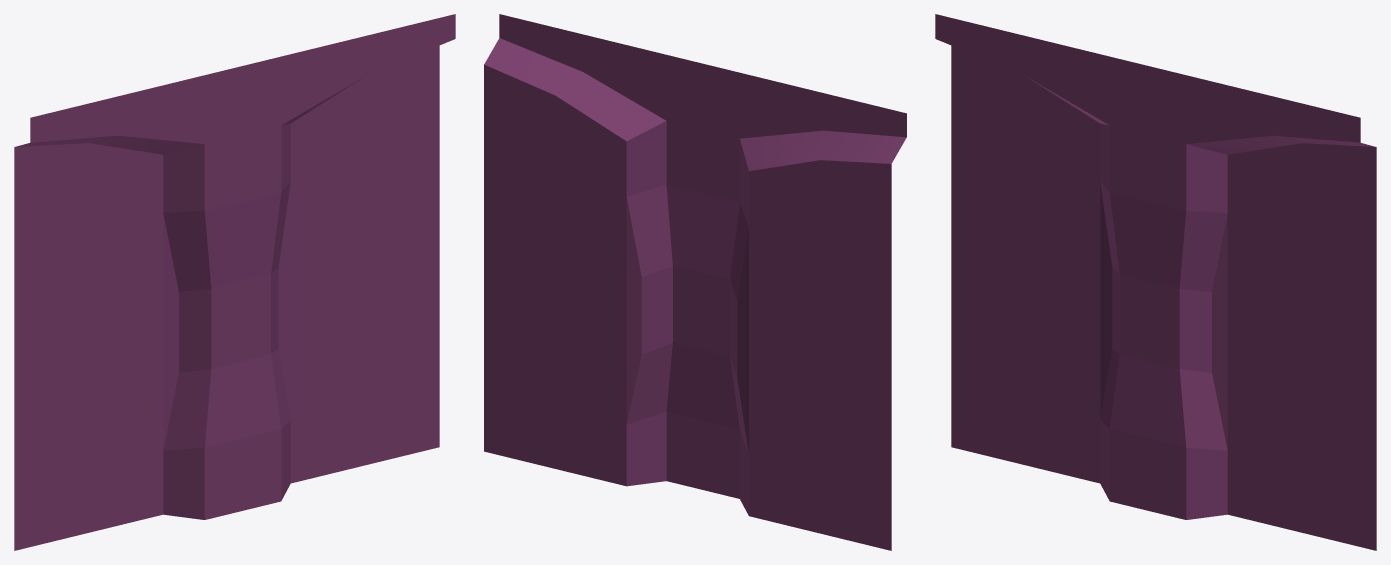
Rendered from walll with pillar FLR2.fbx.
3 views of the same model, side by side, from view 1: azimuth 30°, elevation 25°; view 2: azimuth 150°, elevation 25°; view 3: azimuth 330°, elevation 25° (orthographic). The views are drawn at different scales.
Parts seen in each view (by area): view 1: wall_with_piller; view 2: wall_with_piller; view 3: wall_with_piller.
Part boxes in pixels (box(x1,y1,x2,y2)): wall_with_piller: box(14, 14, 455, 550); wall_with_piller: box(484, 14, 906, 550); wall_with_piller: box(935, 14, 1376, 550).
Size of the model in its own units: 5 by 5 by 0.3256.
